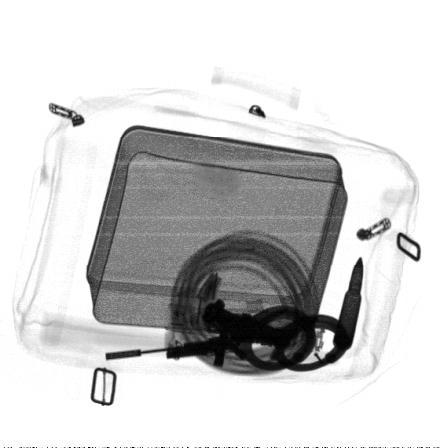Bullet: (332, 256, 364, 351)
Gun: (106, 325, 293, 368)
HandCuffs: (202, 297, 348, 371)
